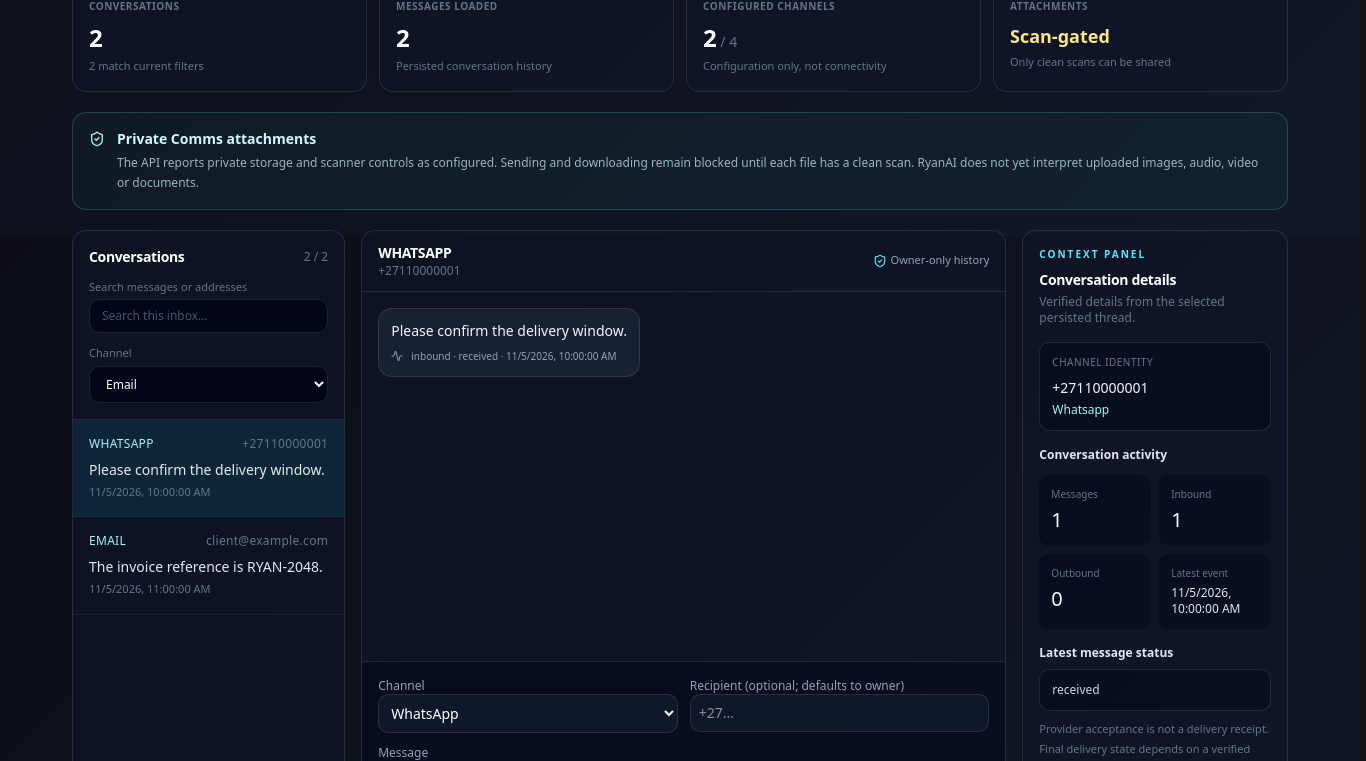
Scenario: RyanAI Comms inbox controls › filters the conversation list by channel
(page scrolled)
Select "Email" in the dropdown labelled "Channel" below "Search messages or addresses" at (209, 384), box [89, 366, 328, 402]
(page scrolled)
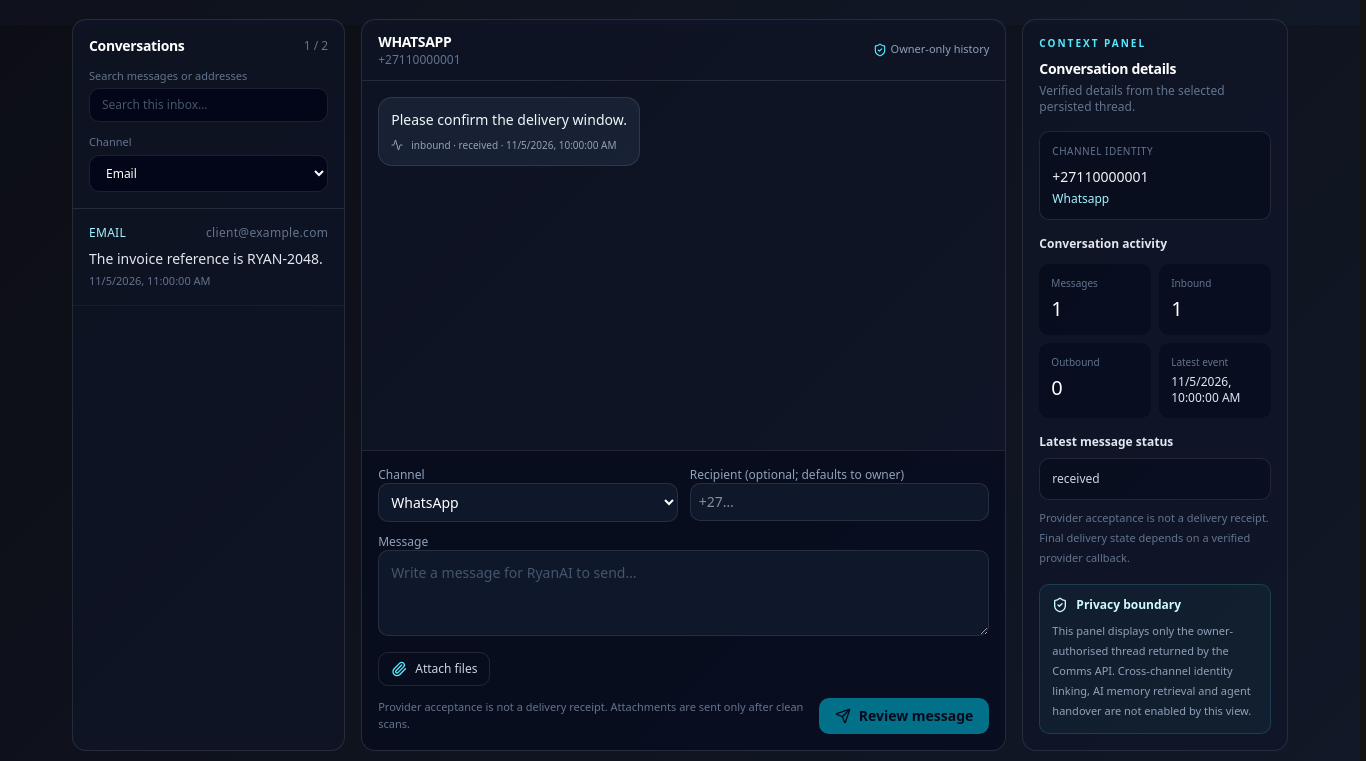
Expected: the element that starts with "Conversations" shows "client@example.com", [73, 208, 344, 306]
Expected: the text "1 / 2" is shown, [304, 38, 328, 54]
Expected: the text "+27110000001" is gone
